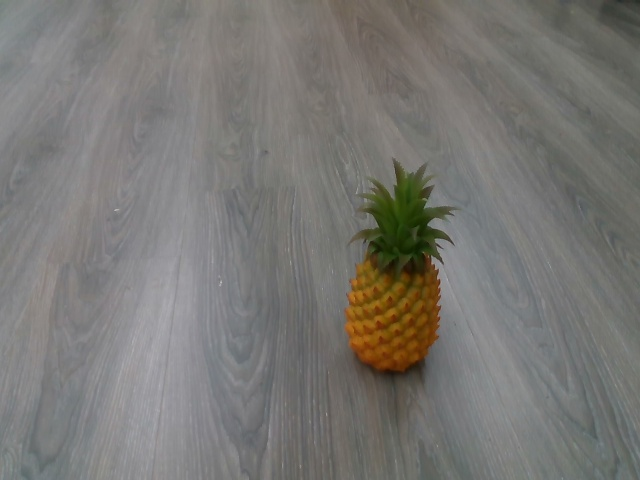pineapple: (341, 158, 464, 377)
